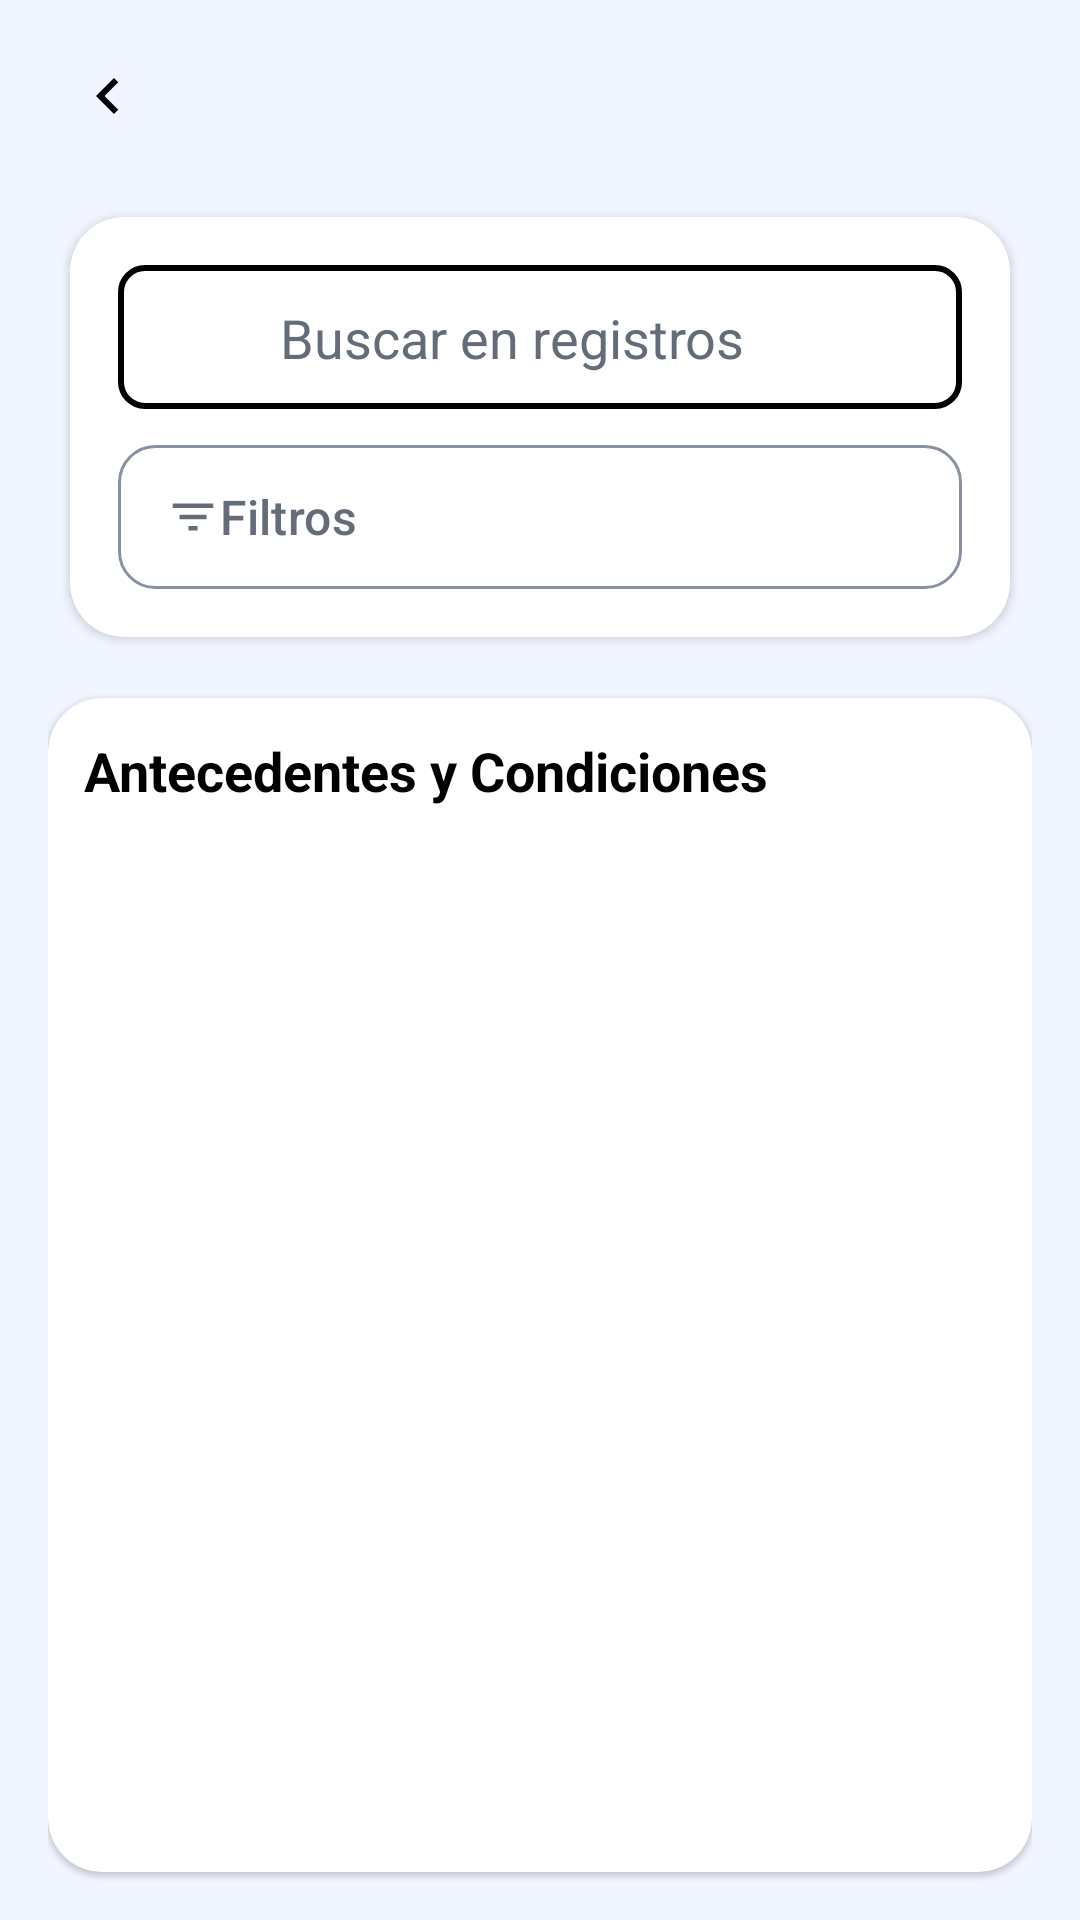

Icon bounding boxes for this 1080 × 1920 phone screenshot, format (x1, y1, x2, y2):
chevron left: (96, 78, 118, 114)
